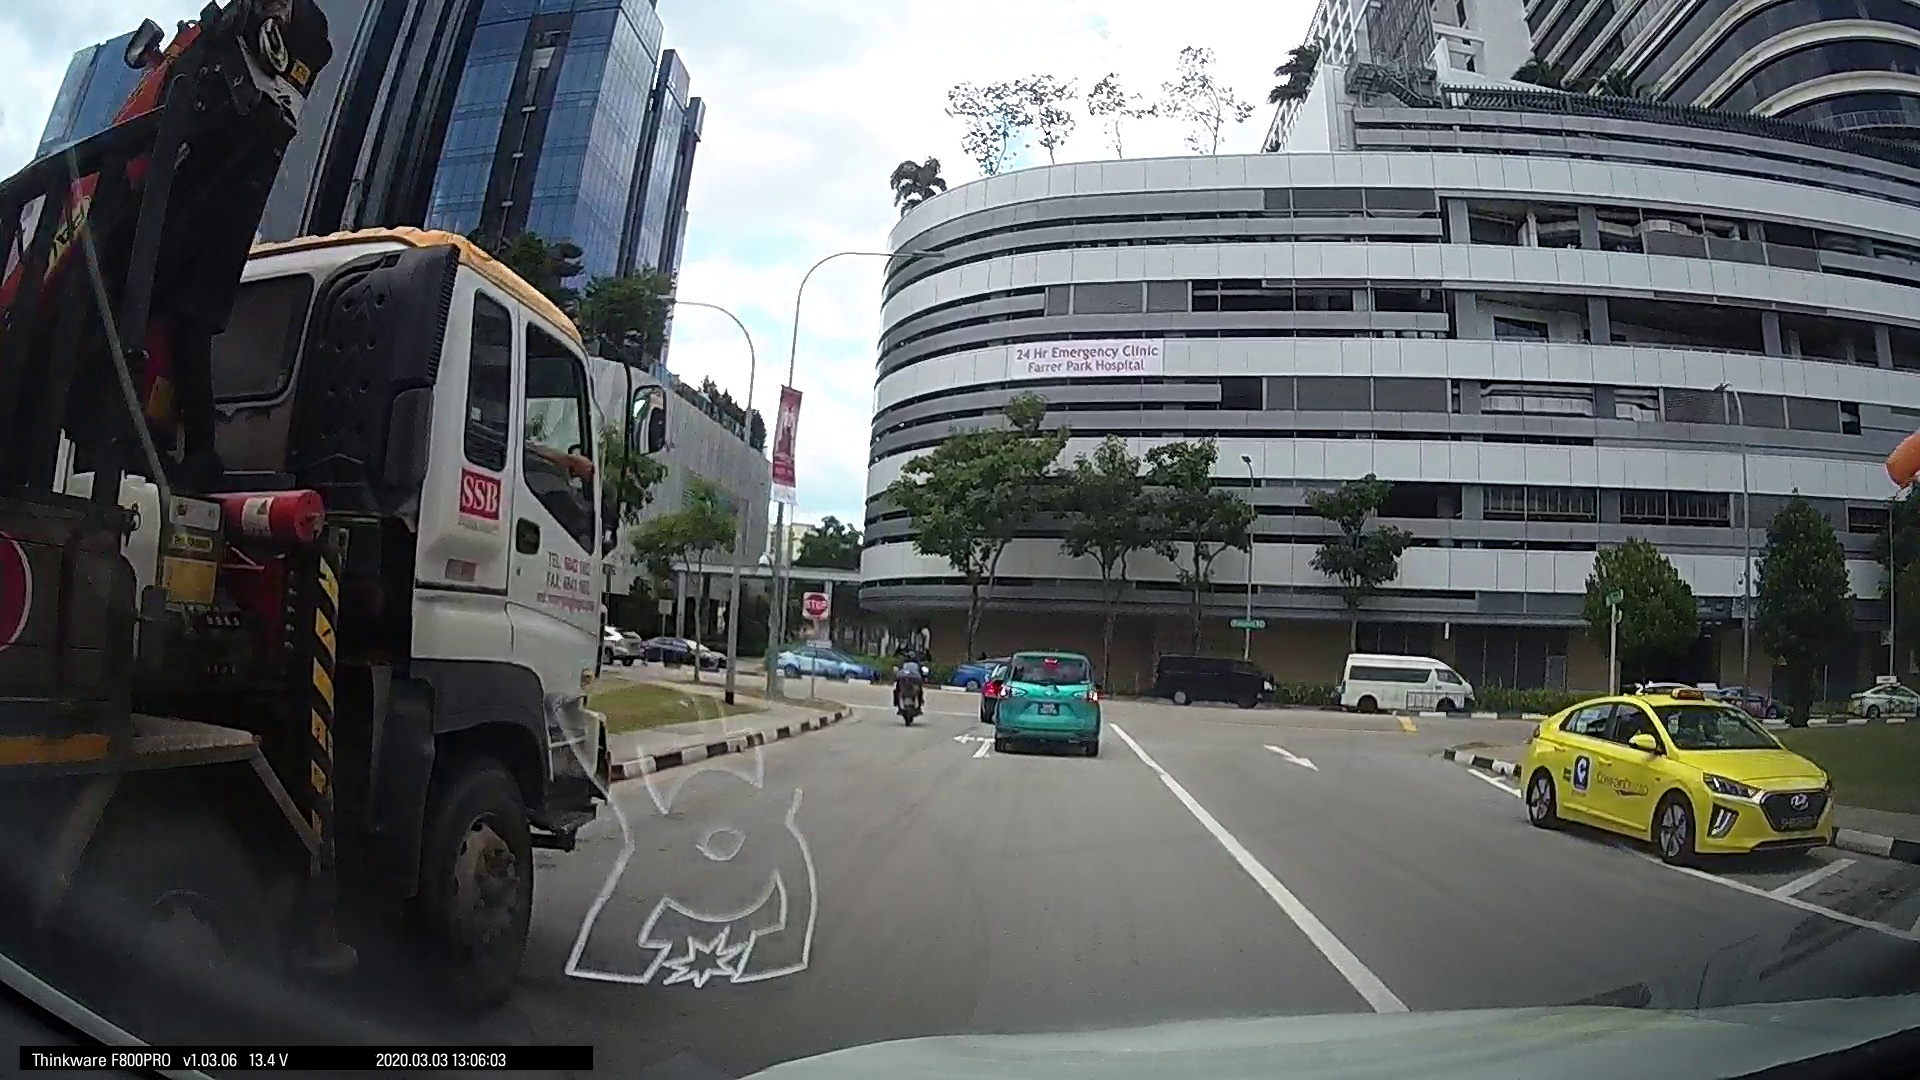Heavy Vehicle: (18, 167, 636, 1001)
Light Vehicle: (1513, 682, 1840, 873), (984, 646, 1097, 753), (1325, 647, 1484, 716), (1142, 645, 1273, 705), (771, 640, 868, 687)
Motorcycle: (884, 640, 927, 723)
